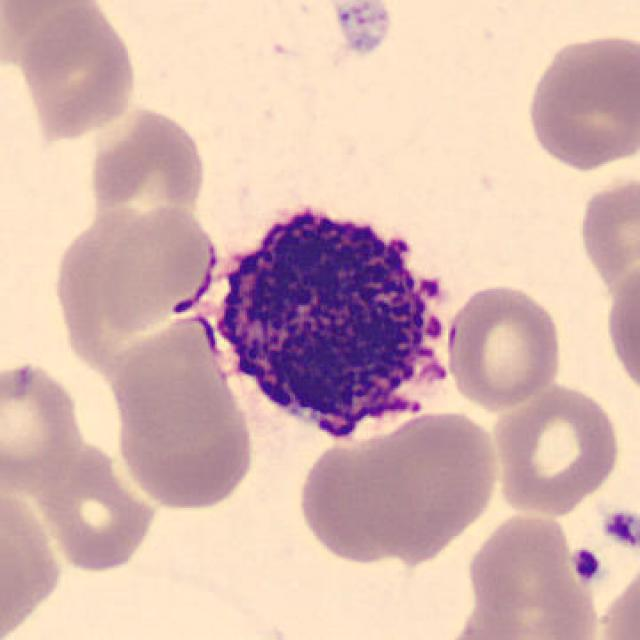Basophil: (182, 190, 469, 455)
Platelets: (325, 2, 395, 60), (599, 506, 638, 552), (569, 545, 604, 587)
RBC: (97, 321, 270, 515), (349, 406, 503, 557), (24, 450, 171, 580), (489, 379, 624, 518), (16, 2, 142, 141), (521, 30, 636, 175), (94, 201, 220, 333), (443, 280, 567, 412), (461, 497, 584, 629), (294, 435, 406, 566), (85, 102, 210, 215), (0, 358, 87, 494), (0, 482, 70, 639), (574, 171, 638, 300), (454, 586, 598, 640), (0, 0, 98, 76), (601, 256, 640, 402), (590, 567, 640, 640)
